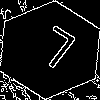L: (25, 25, 79, 78)
